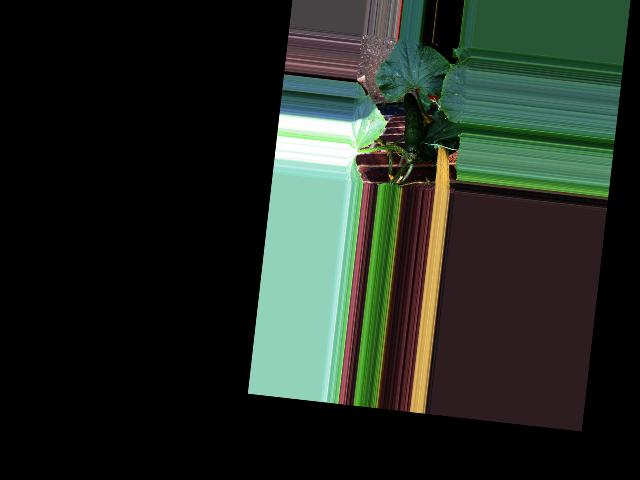cucumber: (396, 92, 427, 154)
